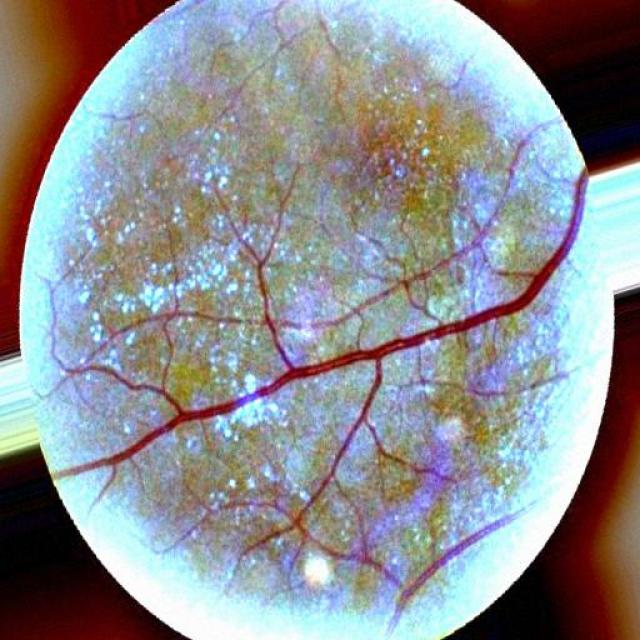Nerves: (59, 169, 586, 560), (325, 206, 498, 324), (395, 515, 511, 618)
